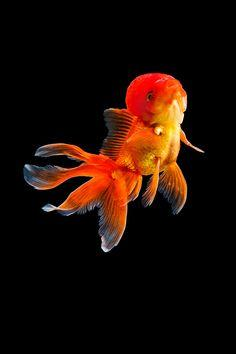goldfish: (24, 66, 219, 250)
